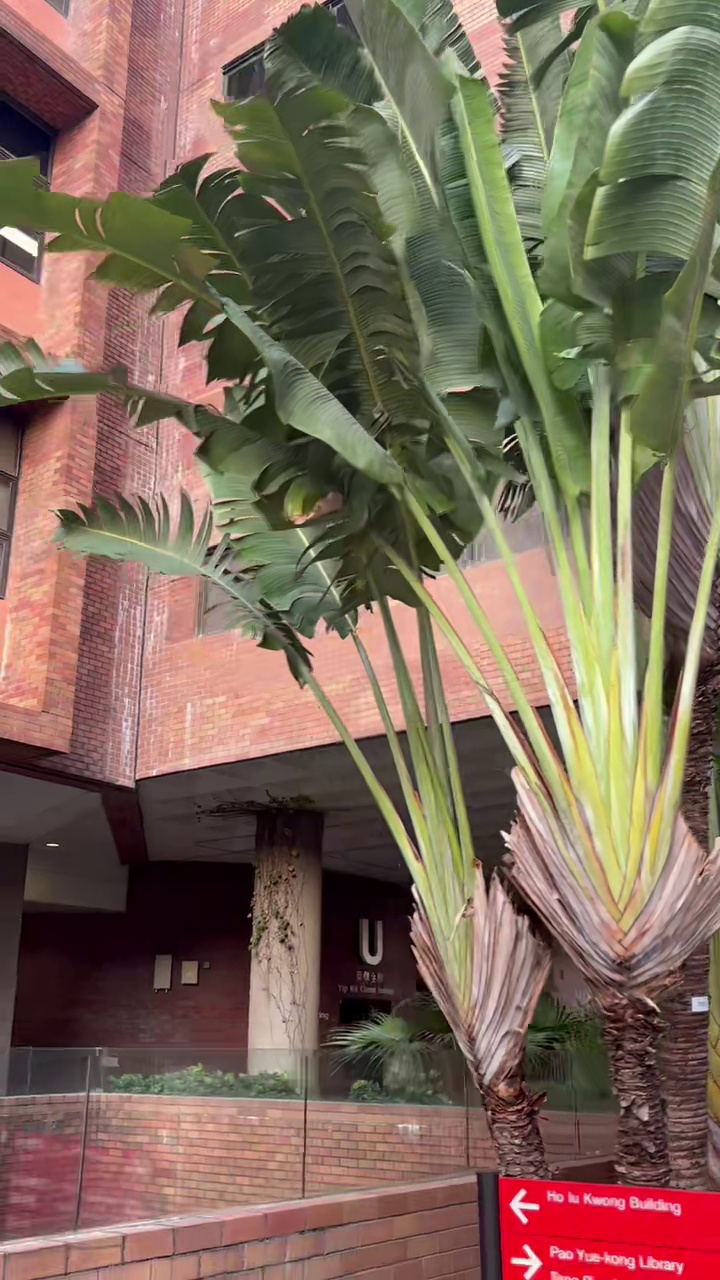Travellers-tree: (0, 0, 719, 1183)
